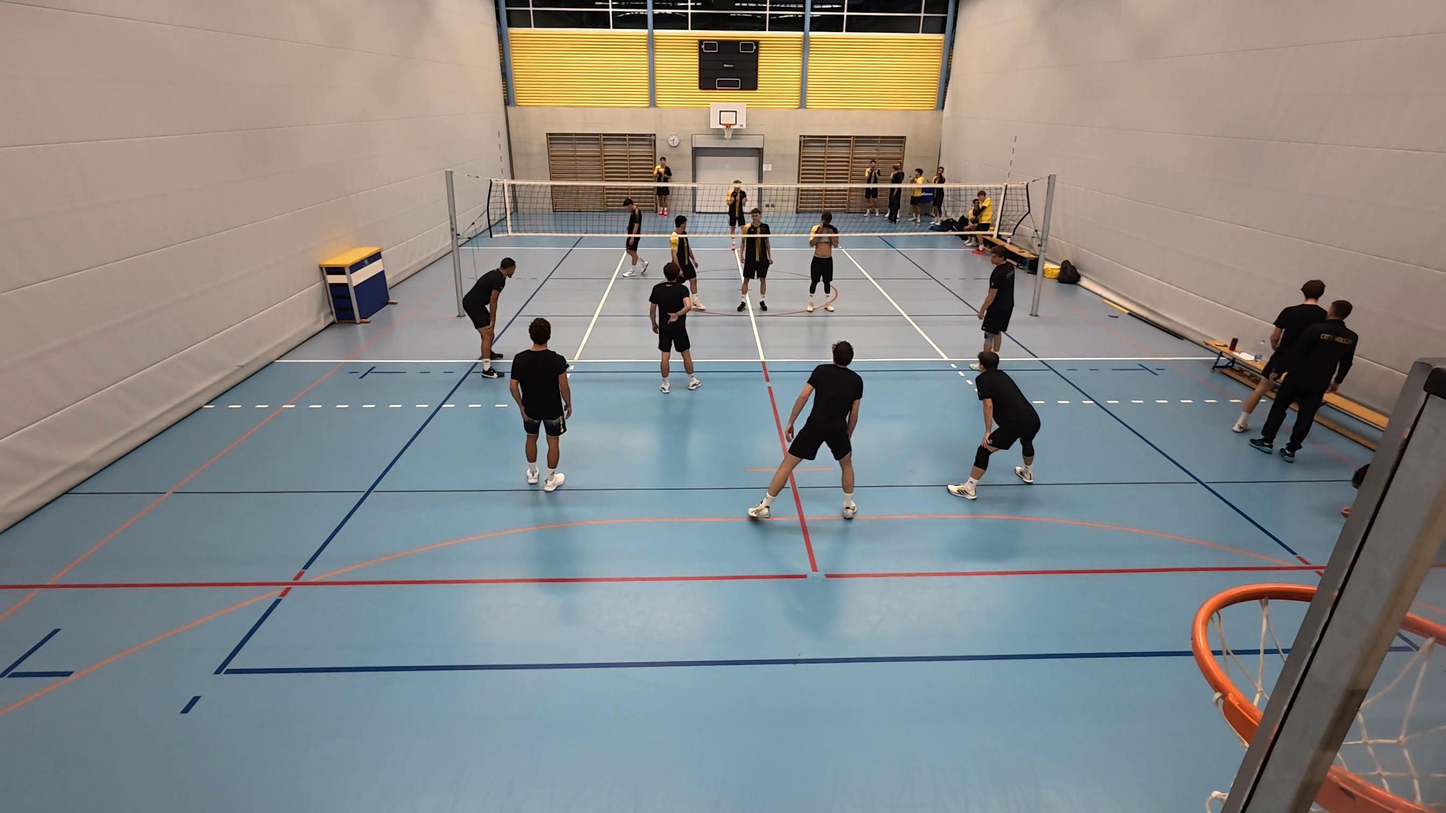alzata: (621, 196, 650, 279)
